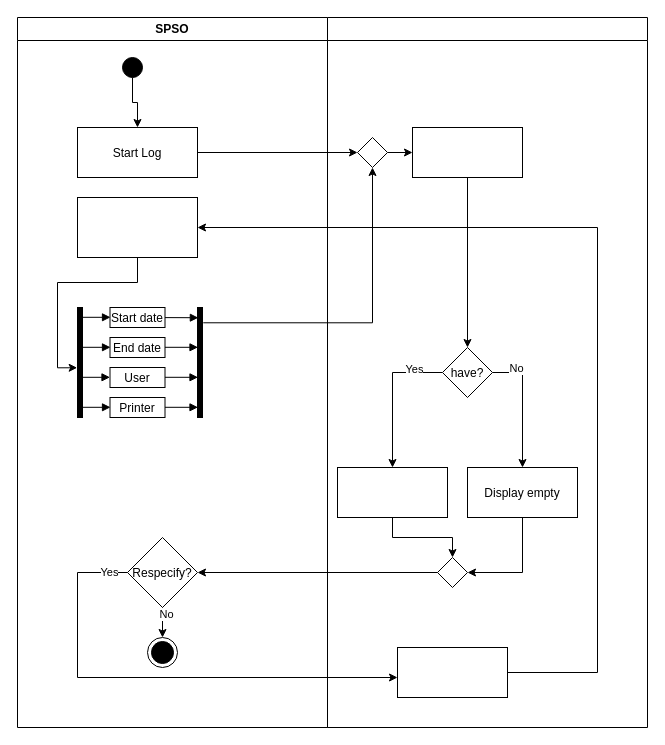
This 665x745 diagram has some shape labels left out. The box of each missing label's shape, as (x1, y1, x2, y2) in pixels:
Check Log: (412, 126, 522, 178)
display config UI: (396, 646, 508, 698)
Display log: (336, 466, 448, 518)
Specify Log Properties: (76, 196, 198, 258)
SYSTEM: (326, 16, 648, 728)
